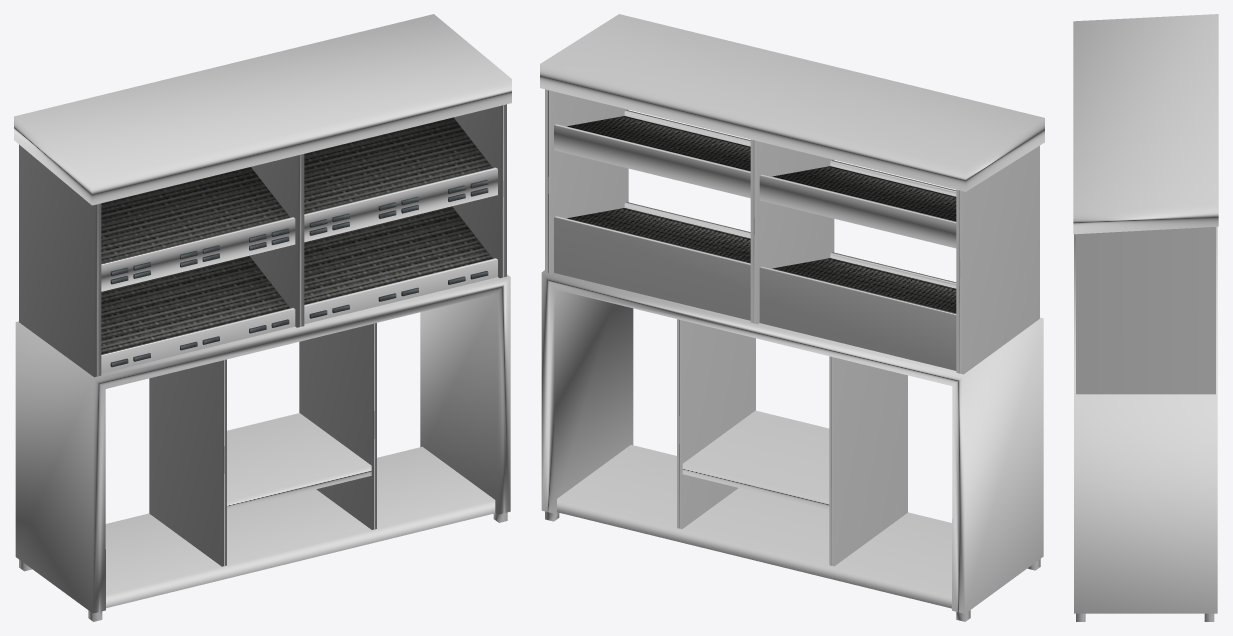
The model's file is theke_essensnachschub.fbx.
3 views of the same model, side by side, from view 1: azimuth 30°, elevation 25°; view 2: azimuth 150°, elevation 25°; view 3: azimuth 270°, elevation 25° (orthographic). The views are drawn at different scales.
Parts seen in each view (by area): view 1: Mesh; view 2: Mesh; view 3: Mesh.
Boxes of the visible parts, left/top/right/bottom form: Mesh: left=14, top=14, right=511, bottom=621; Mesh: left=540, top=14, right=1044, bottom=621; Mesh: left=1073, top=14, right=1218, bottom=621.
Size of the model in its own units: 107 by 109 by 34.3.
